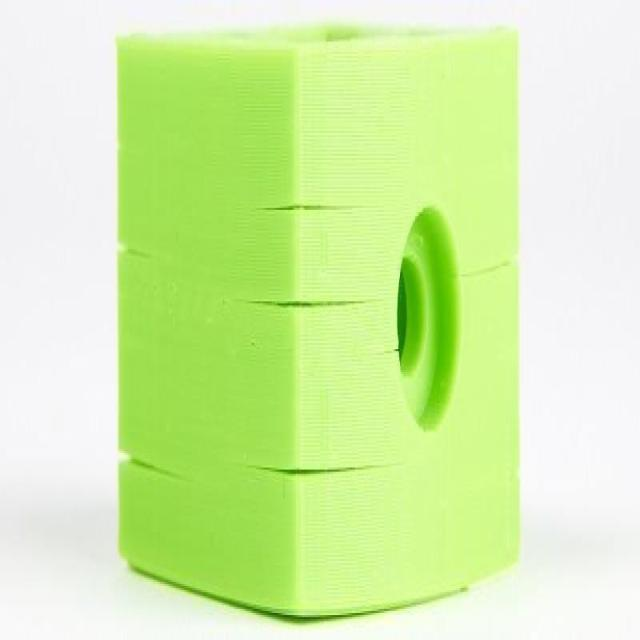cracks: (232, 285, 369, 315), (240, 451, 390, 478), (120, 437, 197, 489), (254, 192, 359, 225), (119, 233, 156, 270)
